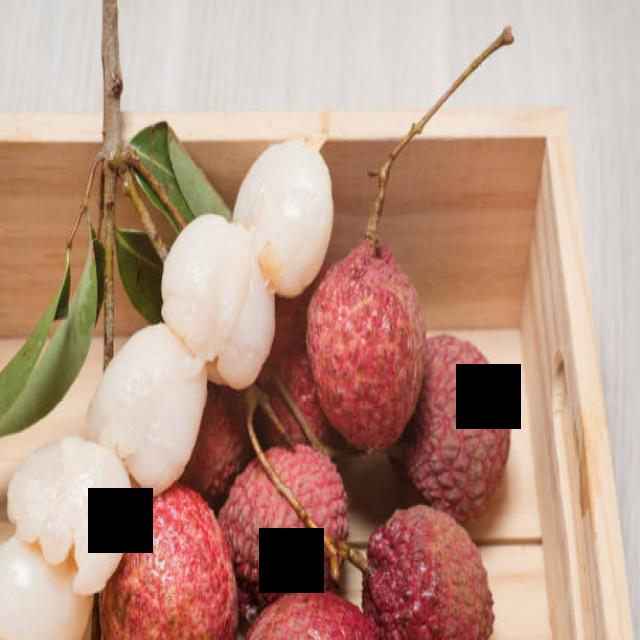lychee: (16, 146, 484, 626)
